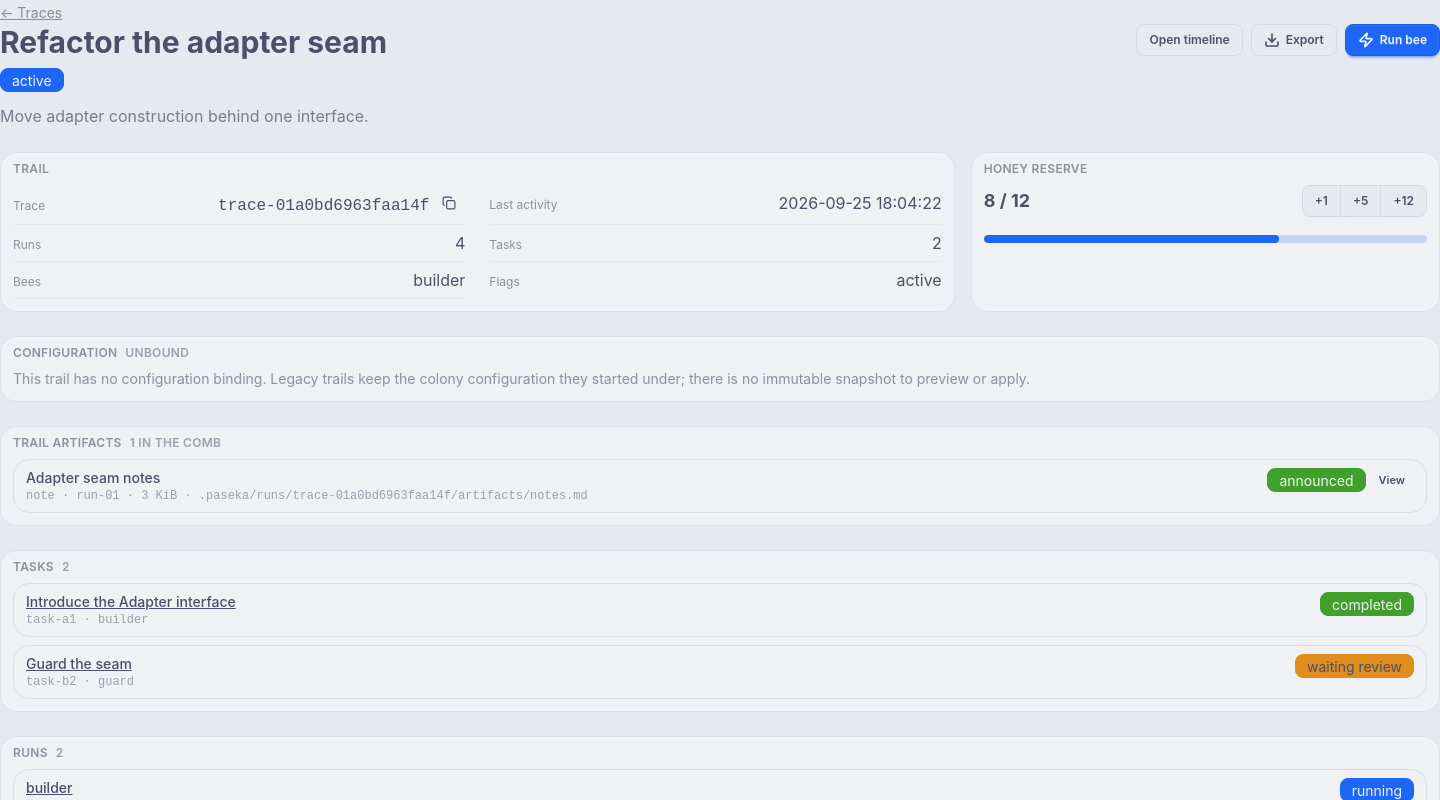
it: trace detail › exports the trail from the header and toasts the receipt
Expected: the heading "Refactor the adapter seam" is shown, [0,24,387,60]
Click the button "Export" at (1294, 40), box [1251,24,1337,56]
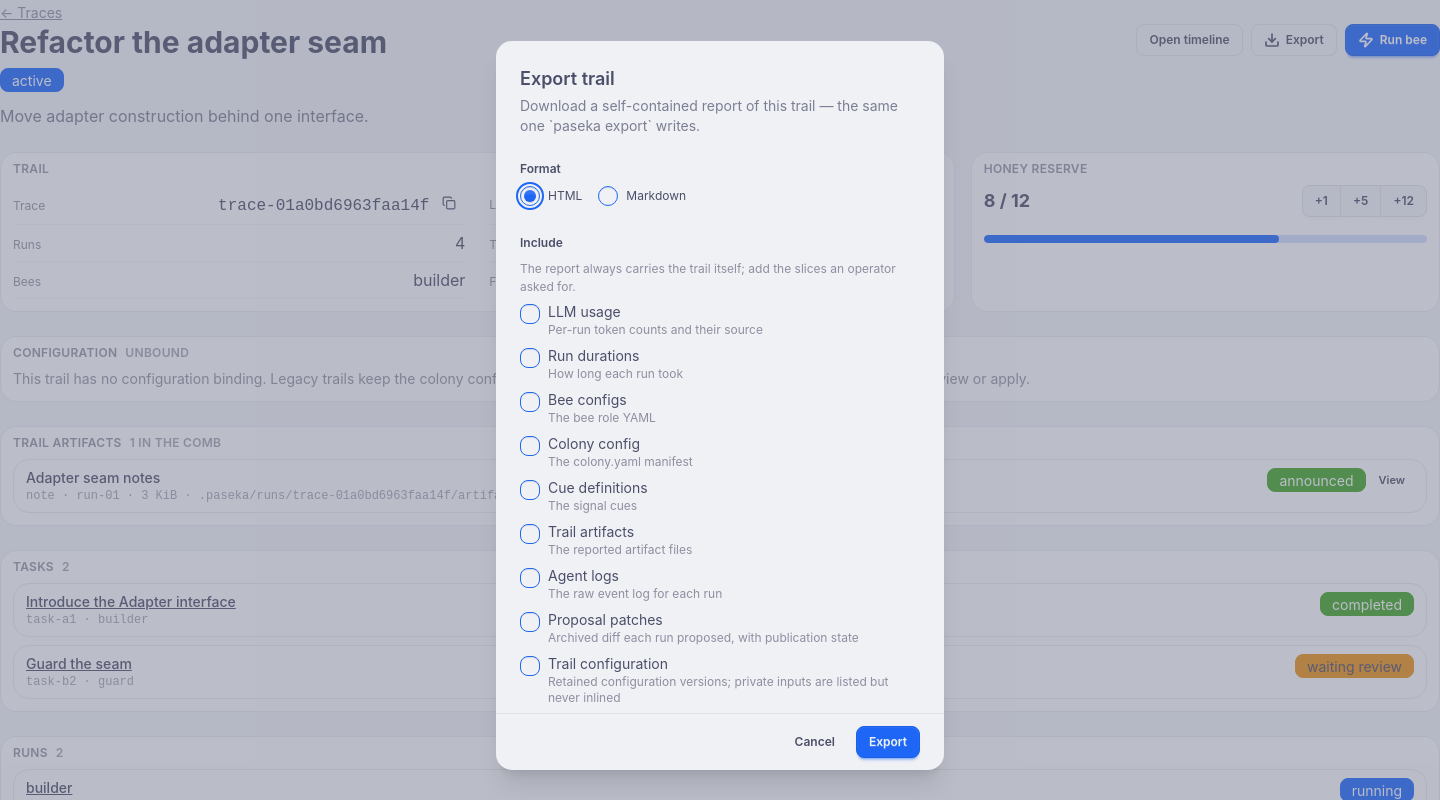
Expected: the dialog shows "Export trail", [520,68,615,88]
Click the radio button labelled "Markdown" at (608, 196), box [598,186,618,206]
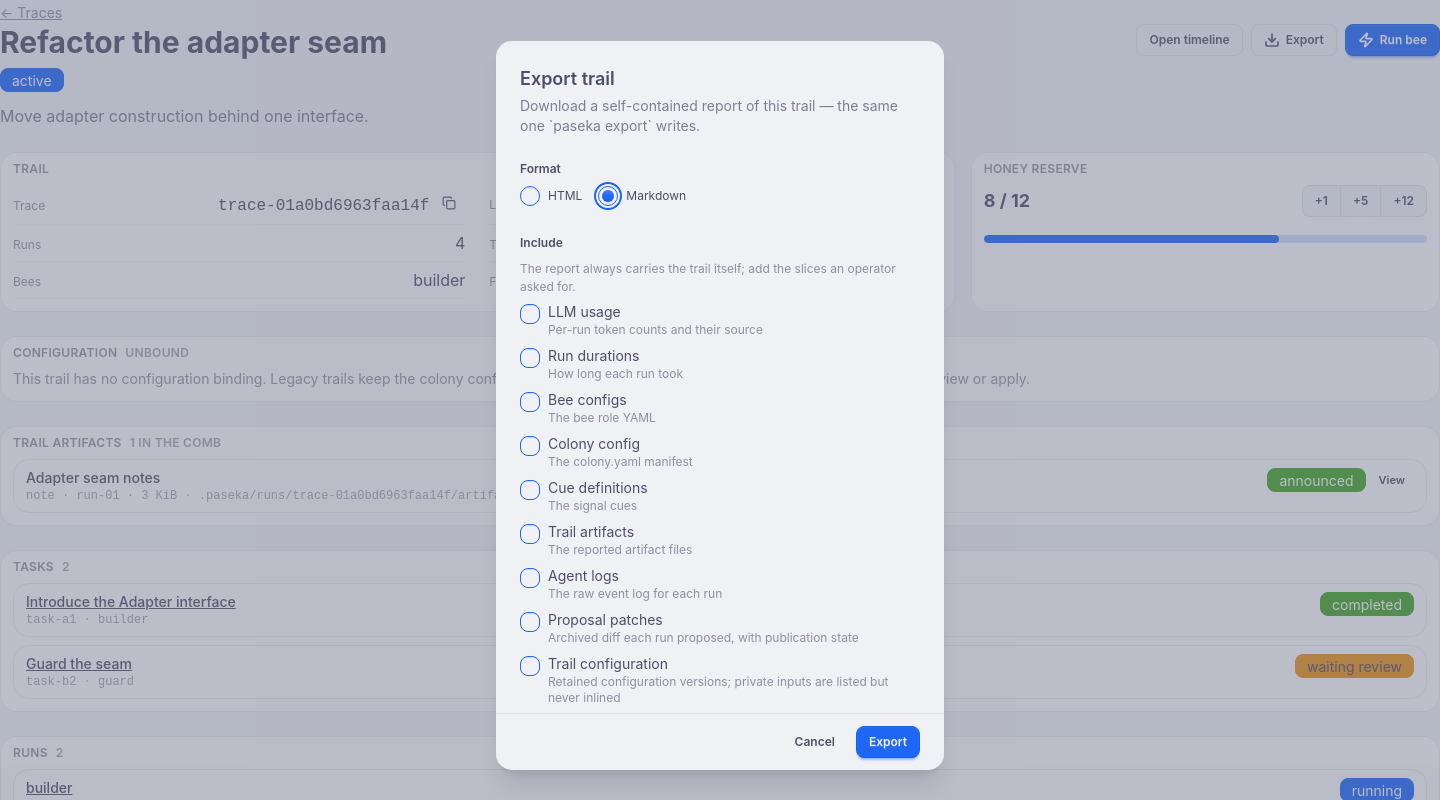
Click the checkbox labelled "Colony config The colony.yaml manifest" at (530, 446), box [520,436,540,456]
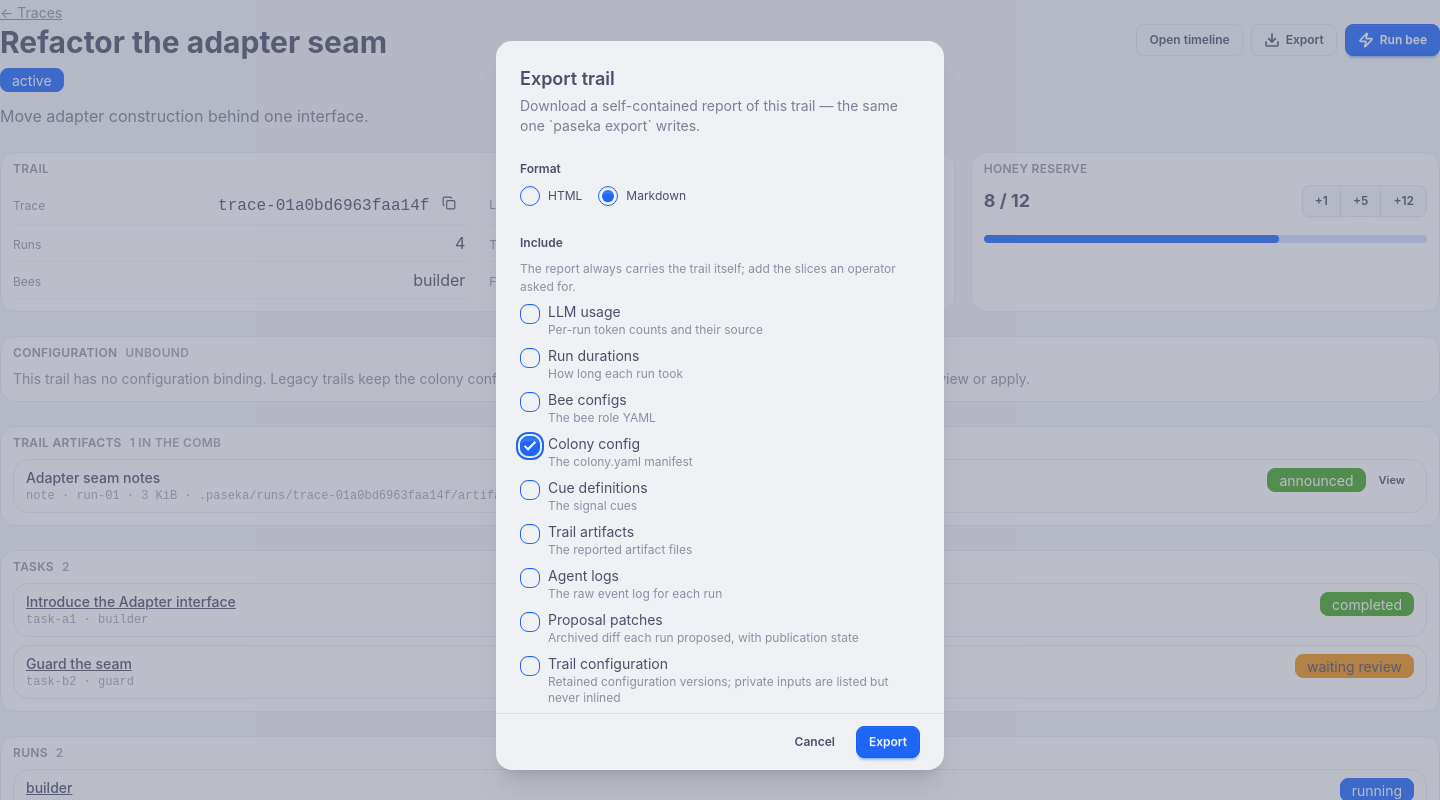
Click the button "Export" at (888, 742), box [856,726,920,758]
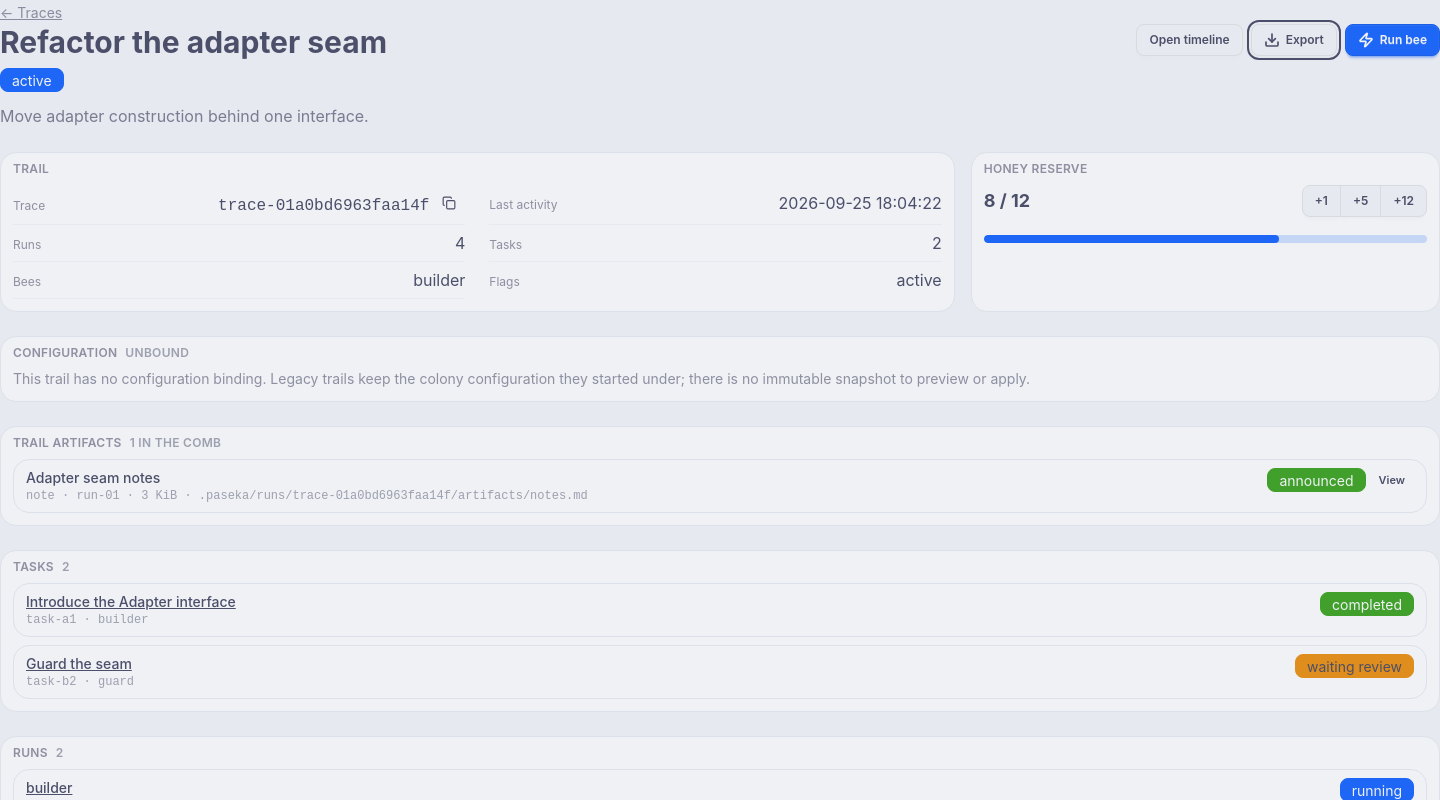
Expected: the dialog is gone
